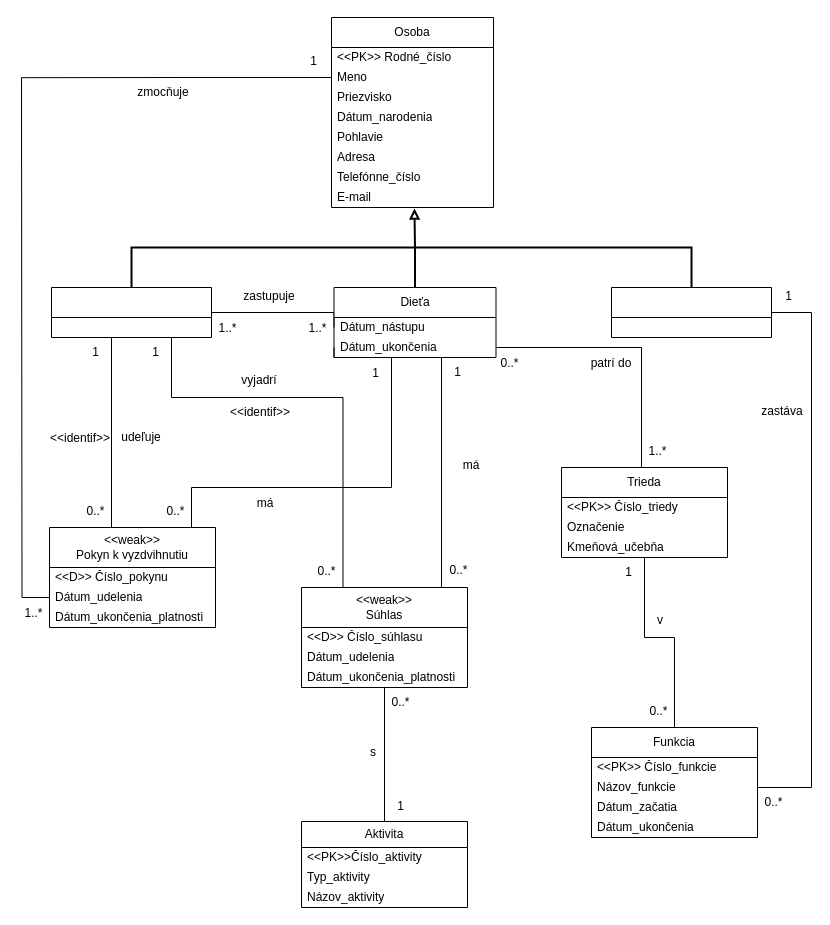
The diagram is 830 pixels wide and 925 high, and some of its shapes have lost their labels. Each missing label, with the centre of its shape:
"Pedagogický pracovník" belongs at point (691, 312).
"Zákonný zástupca" belongs at point (131, 312).
